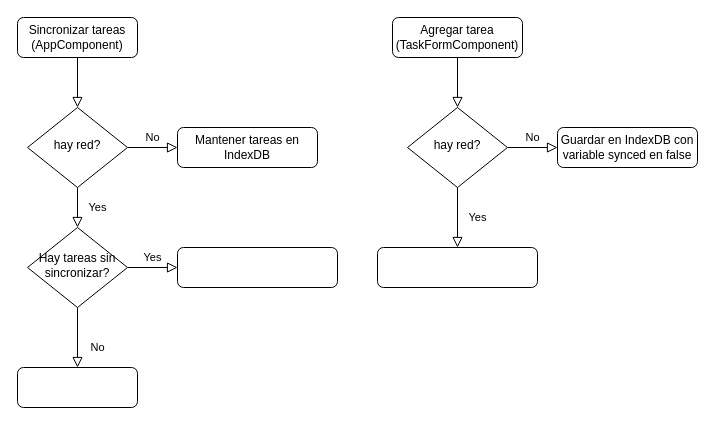
This 715x425 diagram has some shape labels left out. Each missing label, with the centre of its shape:
Enviar tarea a API externa y cambiar estado synced a true en IndexDB: point 457,267
Enviar tareas a API externa y cambiar estado synced a true en IndexDB: point 257,267
Se mantiene: point 77,387
